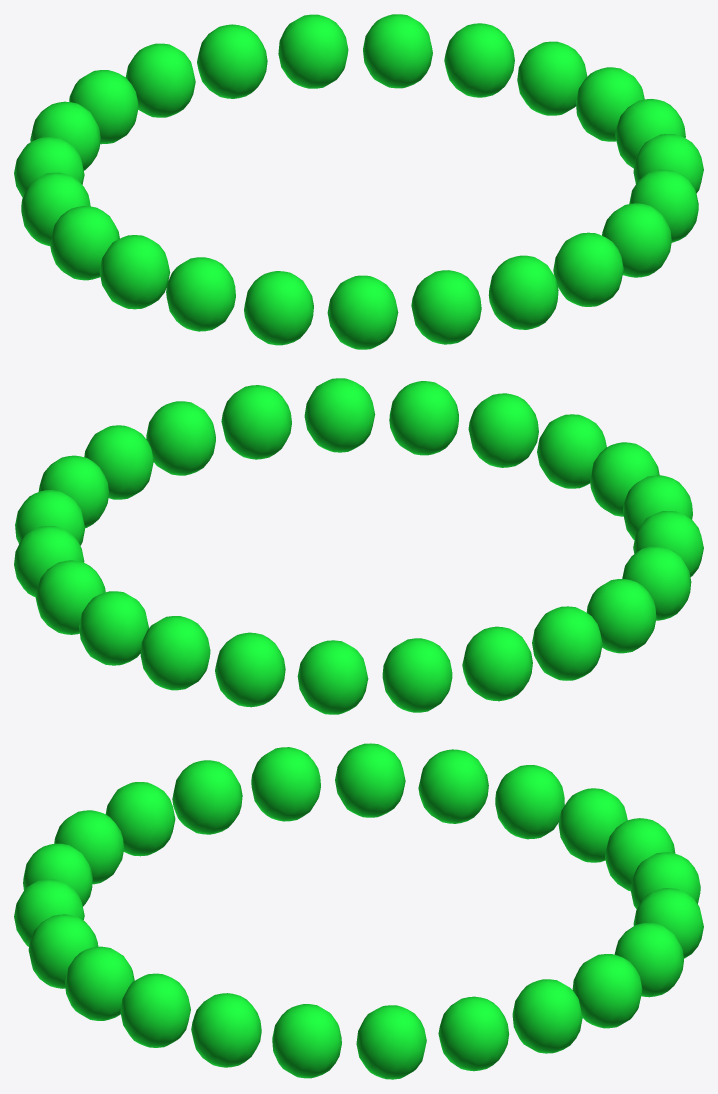
3 views of the same model, one above another, from view 1: azimuth 30°, elevation 25°; view 2: azimuth 150°, elevation 25°; view 3: azimuth 270°, elevation 25° (orthographic).
Parts seen in each view (by area): view 1: Sphere_0; view 2: Sphere_0; view 3: Sphere_0.
Part boxes in pixels (bbox=[...]): Sphere_0: bbox=[14, 14, 703, 349]; Sphere_0: bbox=[14, 378, 703, 714]; Sphere_0: bbox=[14, 743, 703, 1079].
Size of the model in its own units: 57.76 by 57.76 by 6.26.
